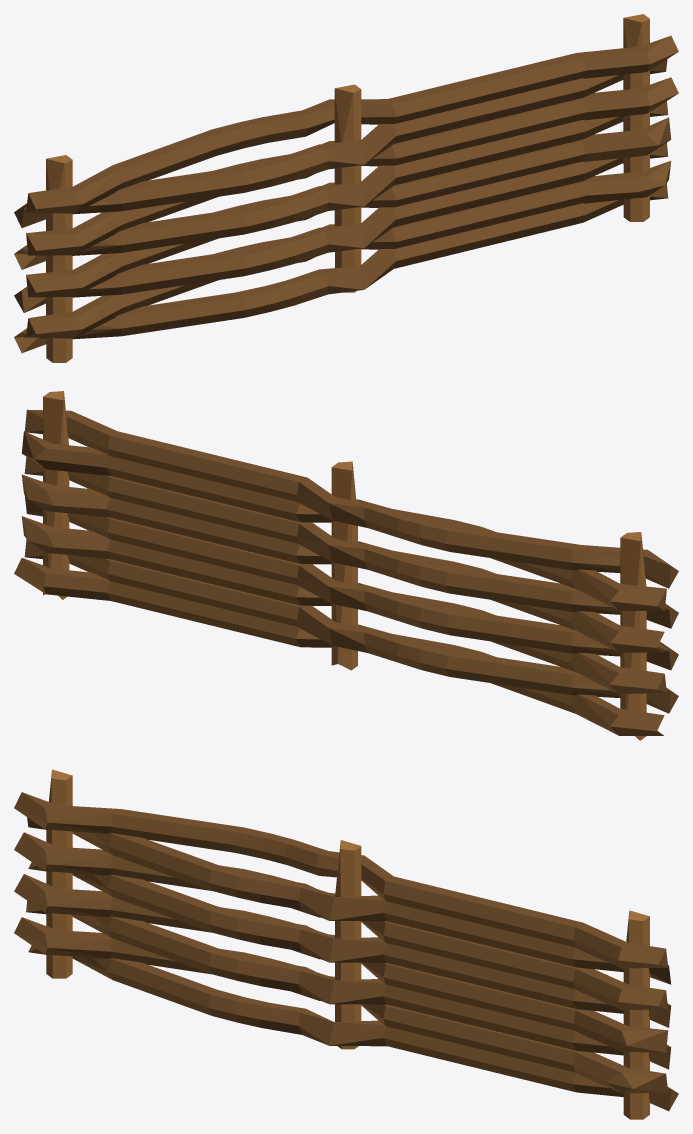
The model's file is Wooden_Fence_Var_01.fbx.
3 renders of one model, top to bottom at view 1: azimuth 30°, elevation 25°; view 2: azimuth 150°, elevation 25°; view 3: azimuth 330°, elevation 25°, orthographic.
Visible parts, largest first — view 1: Wooden_Fence_Var_01; view 2: Wooden_Fence_Var_01; view 3: Wooden_Fence_Var_01.
Part boxes in pixels (x1,y1,x2,y2): Wooden_Fence_Var_01: [14, 14, 678, 362]; Wooden_Fence_Var_01: [14, 391, 678, 740]; Wooden_Fence_Var_01: [14, 769, 678, 1119].
Size of the model in its own units: 336 by 99.64 by 35.11.
